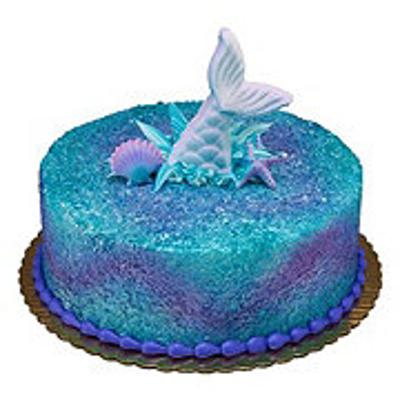cake: (30, 96, 364, 360)
